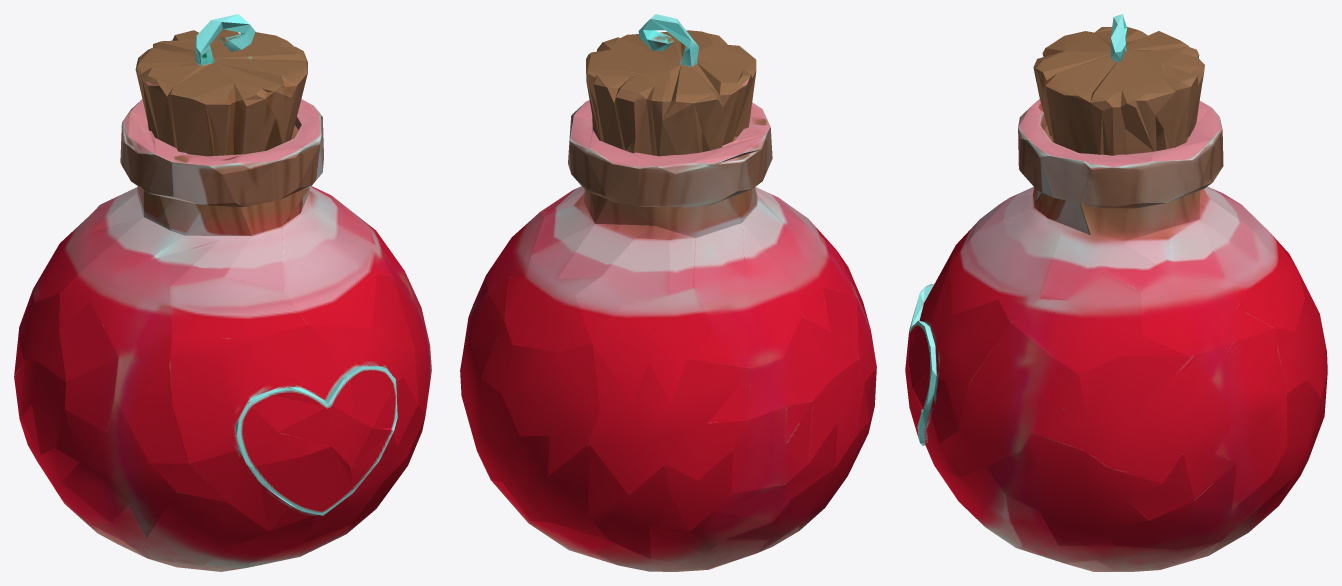
Rendered from potion.glb.
3 views of the same model, side by side, from view 1: azimuth 30°, elevation 25°; view 2: azimuth 150°, elevation 25°; view 3: azimuth 270°, elevation 25° (orthographic).
Bounding box in the file's own units: 1.35 × 1.89 × 1.36.
1 material, 1 textured.
